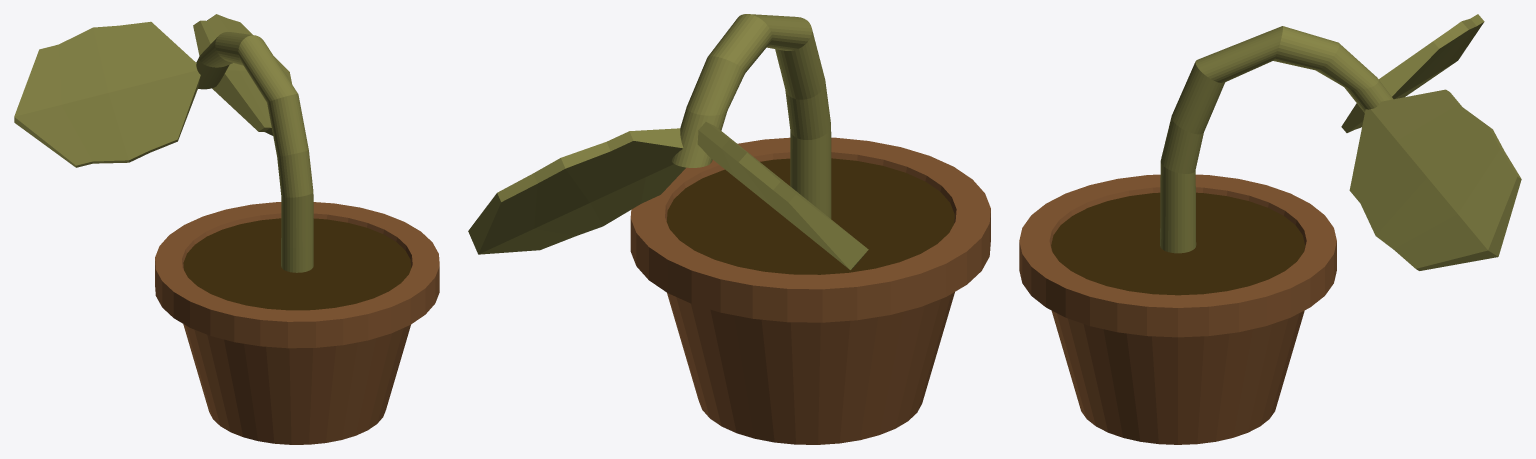
File: deadpottedplant.fbx
The picture shows the model from 3 angles, left to right: view 1: azimuth 30°, elevation 25°; view 2: azimuth 150°, elevation 25°; view 3: azimuth 270°, elevation 25°; orthographic projection. The views are drawn at different scales.
Parts seen in each view (by area): view 1: Cylinder, Cube.001, Cylinder.001, Cylinder.002, Cube; view 2: Cylinder, Cylinder.001, Cube, Cylinder.002, Cube.001; view 3: Cylinder, Cube, Cylinder.001, Cylinder.002, Cube.001.
Part boxes in pixels (left/top/right/bottom): Cylinder: left=155, top=202, right=439, bottom=444; Cube.001: left=14, top=21, right=200, bottom=167; Cylinder.001: left=183, top=218, right=411, bottom=310; Cylinder.002: left=196, top=32, right=313, bottom=272; Cube: left=193, top=14, right=292, bottom=135; Cylinder: left=630, top=137, right=990, bottom=444; Cylinder.001: left=666, top=158, right=954, bottom=274; Cube: left=468, top=128, right=685, bottom=254; Cylinder.002: left=671, top=14, right=831, bottom=218; Cube.001: left=697, top=122, right=868, bottom=269; Cylinder: left=1019, top=174, right=1336, bottom=444; Cube: left=1349, top=89, right=1521, bottom=270; Cylinder.001: left=1051, top=192, right=1304, bottom=295; Cylinder.002: left=1160, top=26, right=1393, bottom=253; Cube.001: left=1341, top=14, right=1484, bottom=132.
Size of the model in its own units: 169 by 184 by 223.
